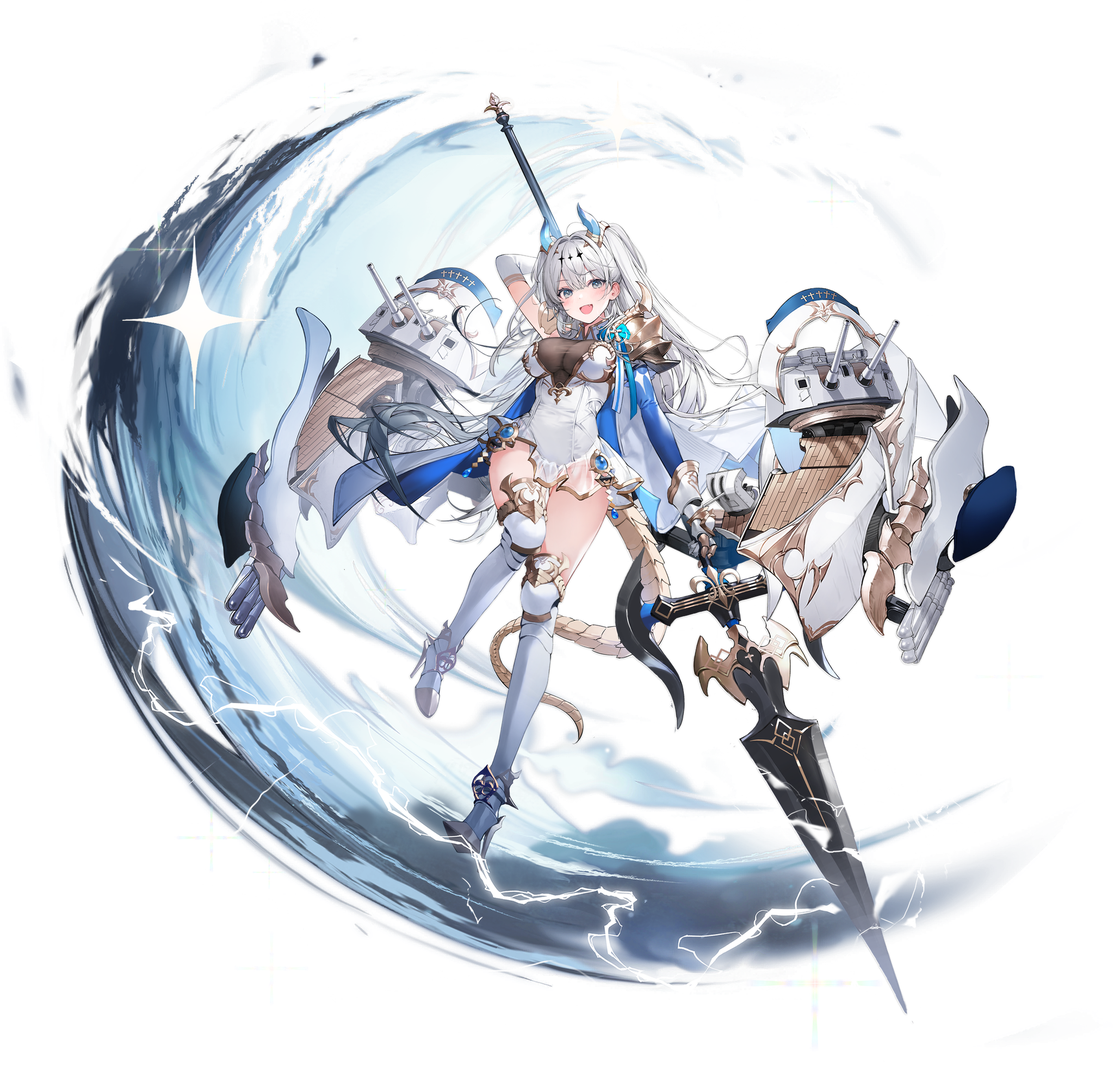person: (337, 172, 728, 871)
